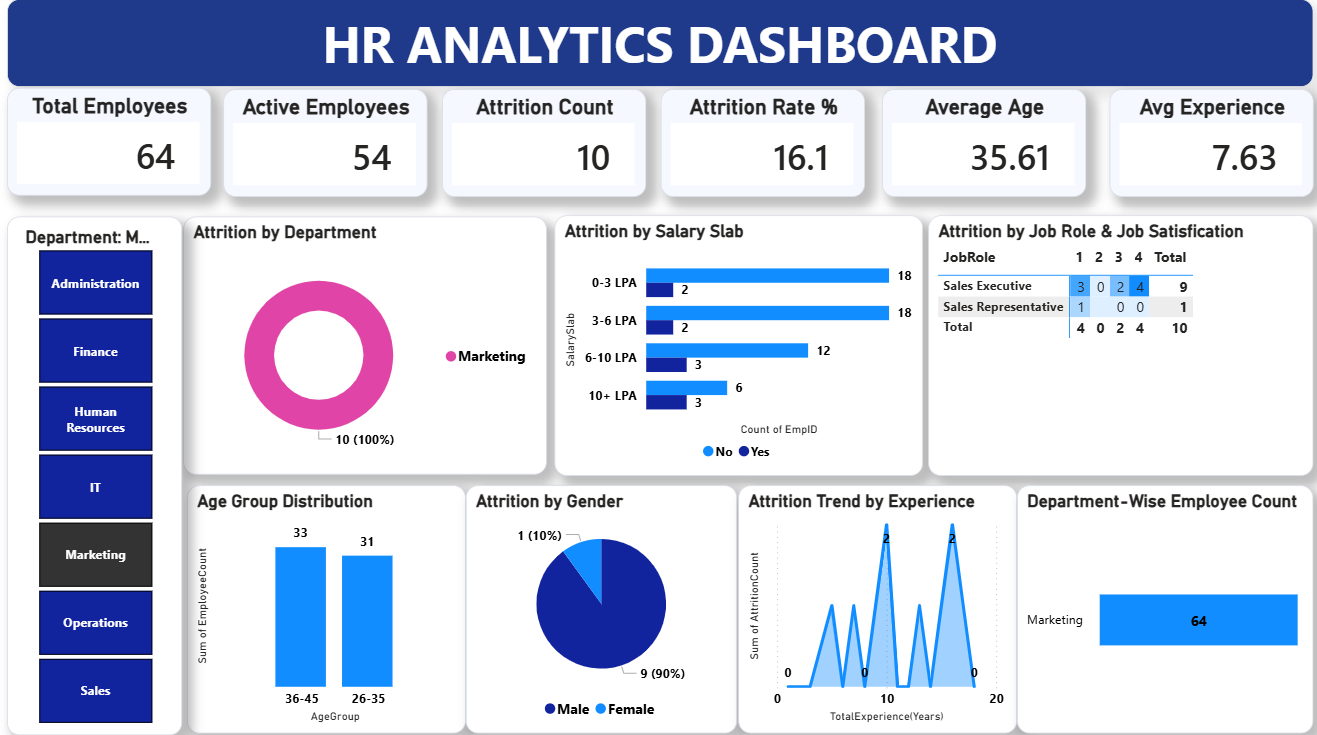

The page's visual inventory and layout, read from the dashboard file:
{"tool":"powerbi","page":{"name":"Page 1","canvas":[1280,720],"ordinal":0},"visuals":[{"type":"textbox","box":[10,0,1259,85],"z":0},{"type":"cardVisual","title":"Total Employees","fields":{"Data":["CountNonNull(HR_Analytics-4.EmpID)"]},"box":[9.8,85.6,196.9,103.9],"z":1000},{"type":"cardVisual","title":"Active Employees","fields":{"Data":["CountNonNull(HR_Analytics-4.EmployeeCount)"]},"box":[217.7,86.8,196.9,103.9],"z":2000},{"type":"cardVisual","title":"Attrition Count","fields":{"Data":["Sum(HR_Analytics-4.AttritionCount)"]},"box":[429.2,86.8,196.9,103.9],"z":3000},{"type":"cardVisual","title":"Attrition Rate %","fields":{"Data":["HR_Analytics-4.Attrition Rate %"]},"box":[639.5,86.8,196.9,103.9],"z":4000},{"type":"cardVisual","title":"Average Age","fields":{"Data":["Avg(HR_Analytics-4.Age)"]},"box":[853.5,86.8,196.9,103.9],"z":5000},{"type":"cardVisual","title":"Avg Experience","fields":{"Data":["Avg(HR_Analytics-4.YearsatCompany)"]},"box":[1072.4,86.8,196.9,103.9],"z":6000},{"type":"donutChart","title":"Attrition by Department","fields":{"Category":["HR_Analytics-4.Department"],"Y":["Sum(HR_Analytics-4.AttritionCount)"]},"box":[179,210,350,249],"z":7000},{"type":"clusteredBarChart","title":"Attrition by Salary Slab","fields":{"Category":["HR_Analytics-4.SalarySlab"],"Y":["CountNonNull(HR_Analytics-4.EmpID)"],"Series":["HR_Analytics-4.Attrition"]},"box":[537,209,355,251],"z":8000},{"type":"pivotTable","title":"Attrition by Job Role & Job Satisfication","fields":{"Rows":["HR_Analytics-4.JobRole"],"Values":["Sum(HR_Analytics-4.AttritionCount)"],"Columns":["HR_Analytics-4.JobSatisfaction"]},"box":[898,209,371,251],"z":9000},{"type":"columnChart","title":"Age Group Distribution","fields":{"Category":["HR_Analytics-4.AgeGroup"],"Y":["Sum(HR_Analytics-4.EmployeeCount)"]},"box":[183.1,469,269,239.4],"z":10000},{"type":"pieChart","title":"Attrition by Gender","fields":{"Category":["HR_Analytics-4.Gender"],"Y":["Sum(HR_Analytics-4.AttritionCount)"]},"box":[452.1,469,262,239.4],"z":11000},{"type":"areaChart","title":"Attrition Trend by Experience","fields":{"Category":["HR_Analytics-4.TotalExperience(Years)"],"Y":["Sum(HR_Analytics-4.AttritionCount)"]},"box":[714.1,469,269,239.4],"z":12000},{"type":"funnel","title":"Department-Wise Employee Count","fields":{"Category":["HR_Analytics-4.Department"],"Y":["CountNonNull(HR_Analytics-4.EmpID)"]},"box":[983.1,469,285.9,239.4],"z":13000},{"type":"slicer","fields":{"Values":["HR_Analytics-4.Department"]},"box":[9.6,209.6,168.7,500],"z":14000}]}

Visuals, with their boxes in screenshot pixels (x1, y1, x2, y2), scaled from the page's 1280x720 canvas onto the 1317x735 screenshot:
textbox: bbox(10, 0, 1306, 87)
"Total Employees" cardVisual: bbox(10, 87, 213, 193)
"Active Employees" cardVisual: bbox(224, 89, 427, 195)
"Attrition Count" cardVisual: bbox(442, 89, 644, 195)
"Attrition Rate %" cardVisual: bbox(658, 89, 861, 195)
"Average Age" cardVisual: bbox(878, 89, 1081, 195)
"Avg Experience" cardVisual: bbox(1103, 89, 1306, 195)
"Attrition by Department" donutChart: bbox(184, 214, 544, 469)
"Attrition by Salary Slab" clusteredBarChart: bbox(553, 213, 918, 470)
"Attrition by Job Role & Job Satisfication" pivotTable: bbox(924, 213, 1306, 470)
"Age Group Distribution" columnChart: bbox(188, 479, 465, 723)
"Attrition by Gender" pieChart: bbox(465, 479, 735, 723)
"Attrition Trend by Experience" areaChart: bbox(735, 479, 1012, 723)
"Department-Wise Employee Count" funnel: bbox(1012, 479, 1306, 723)
slicer - HR_Analytics-4.Department: bbox(10, 214, 183, 724)
